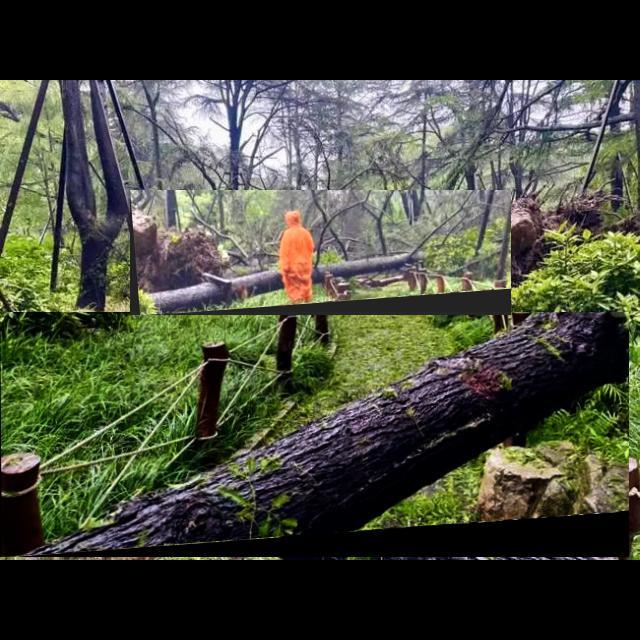fallen_tree: (0, 312, 630, 558), (130, 190, 512, 316)
